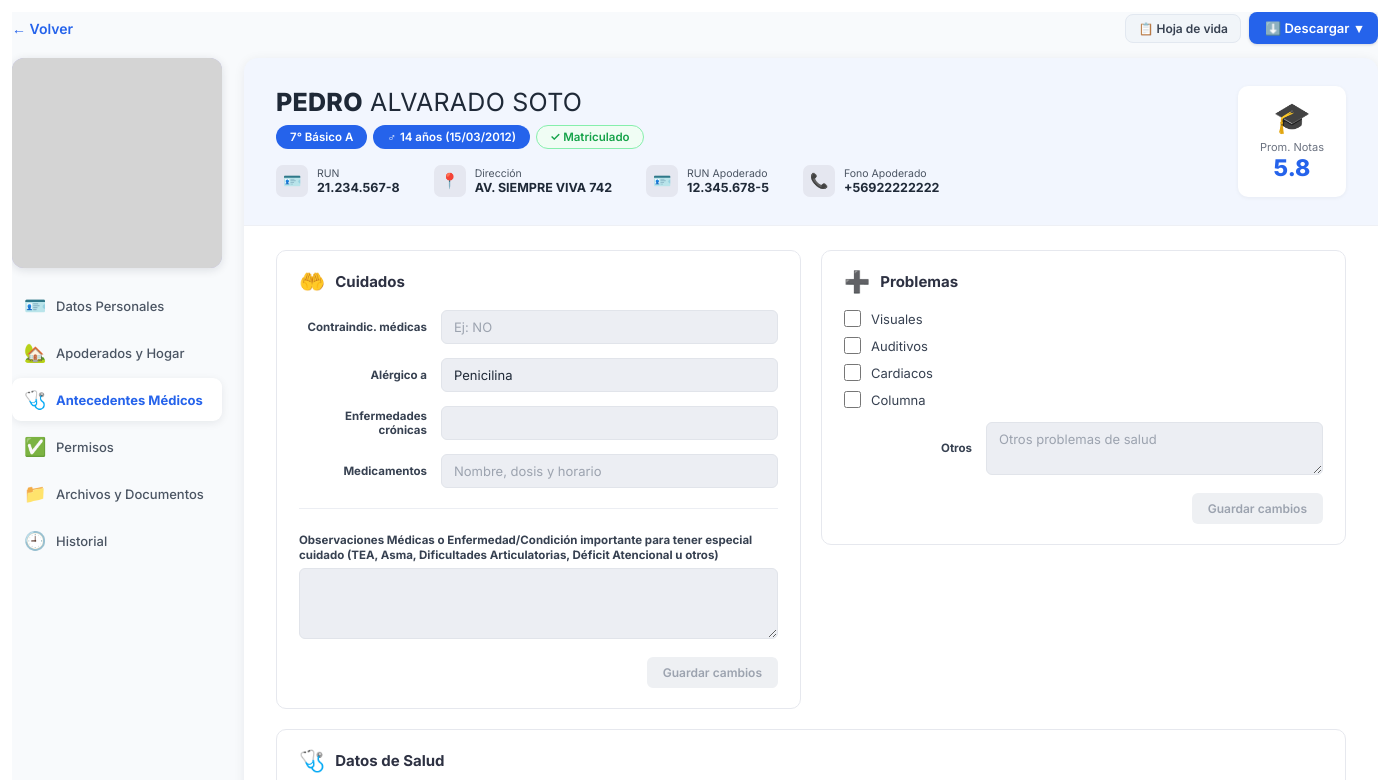
menú Descargar ofrece ficha completa / sección actual e imprime
Check: the heading "Pedro Alvarado Soto" is shown, box [276,87,582,117]
Click the button "⬇️ Descargar ▾" at (1314, 28), box [1249,12,1378,44]
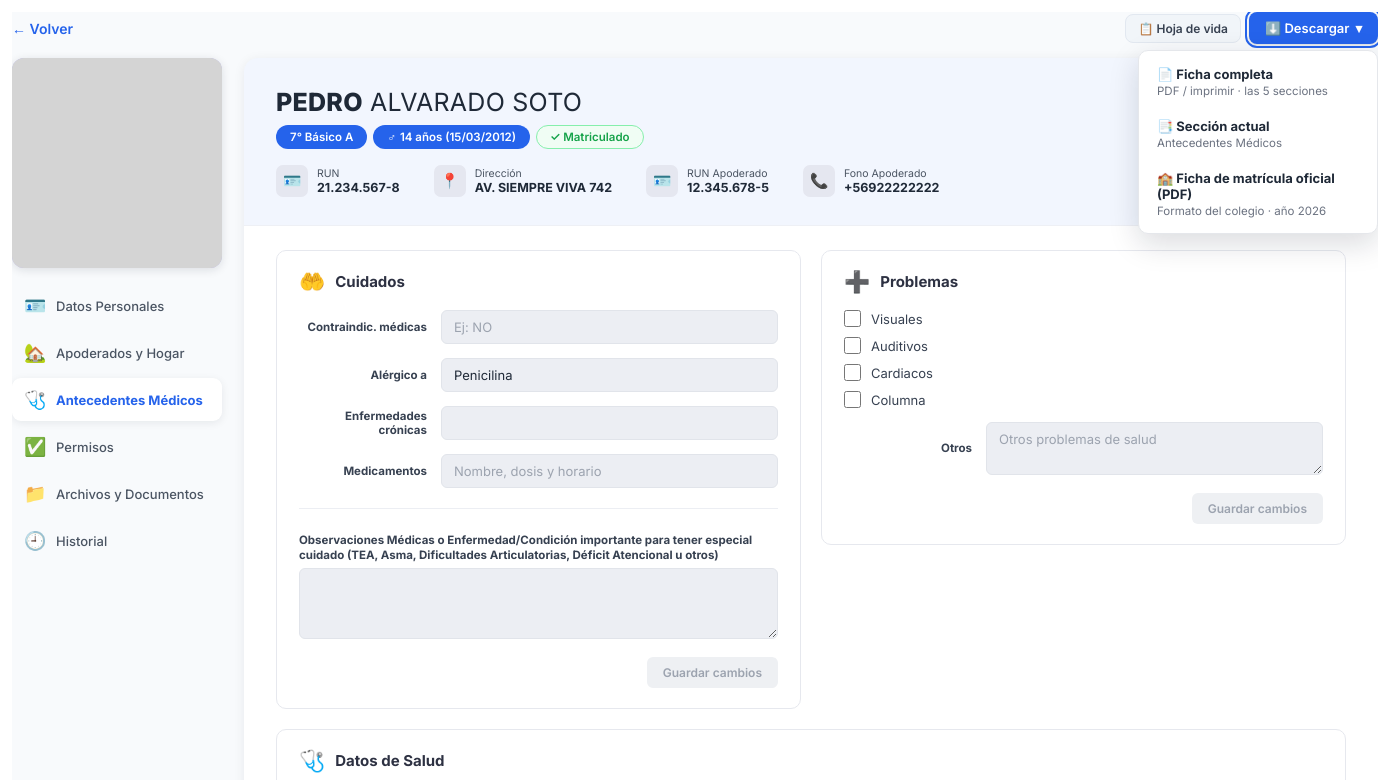
Check: the menu item "📄 Ficha completa PDF / imprimir · las 5 secciones" is shown
Check: the menu item "📑 Sección actual Antecedentes Médicos" is shown, box [1145,109,1371,159]
Click the menu item "📄 Ficha completa PDF / imprimir · las 5 secciones" at (1258, 82), box [1145,57,1371,107]
Wait 500 ms
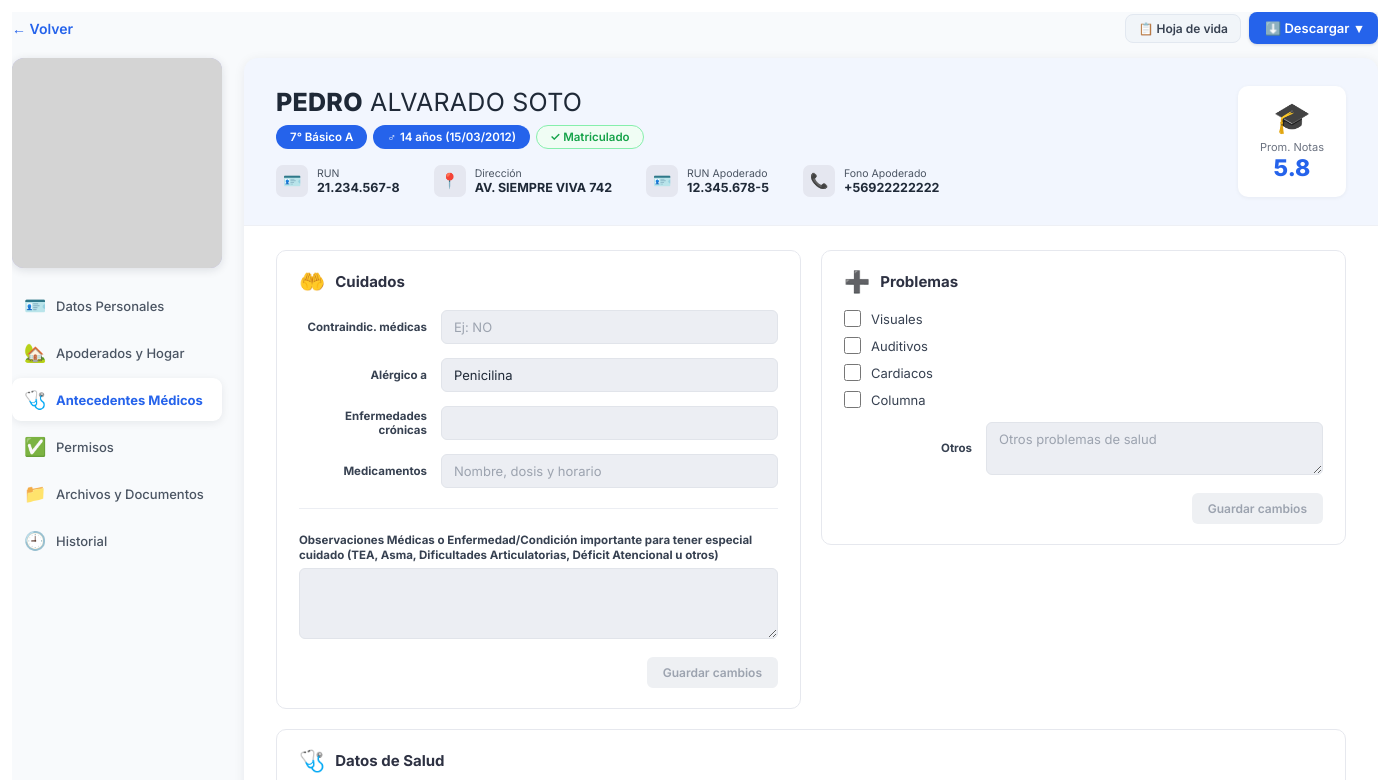
Check: the menu is gone
